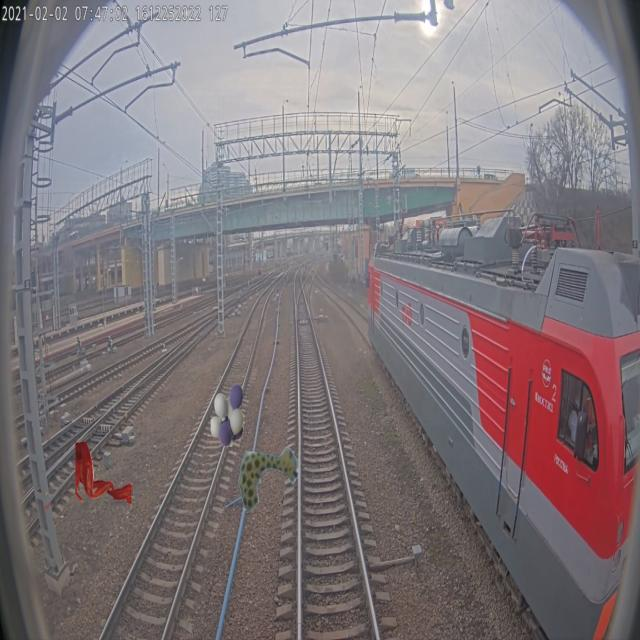balloon: (210, 383, 244, 447)
floating object: (238, 446, 298, 510), (76, 442, 132, 506)
